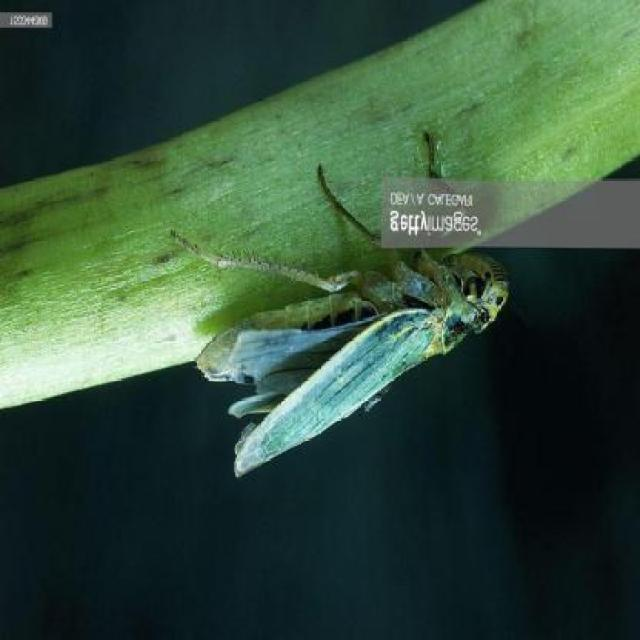green-leafhopper: (182, 230, 508, 481)
